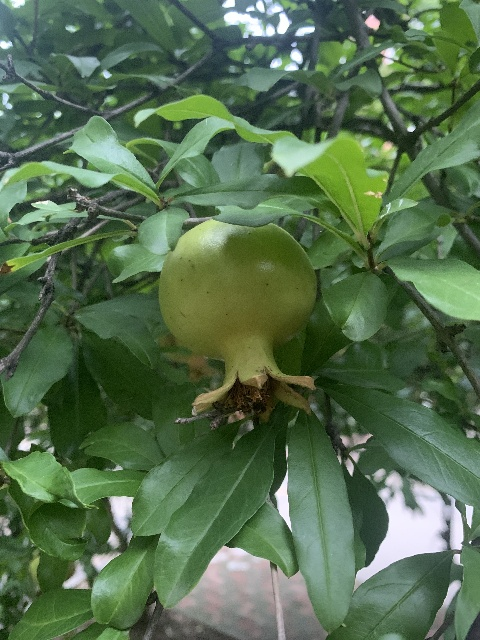mid-growth: (157, 217, 318, 424)
